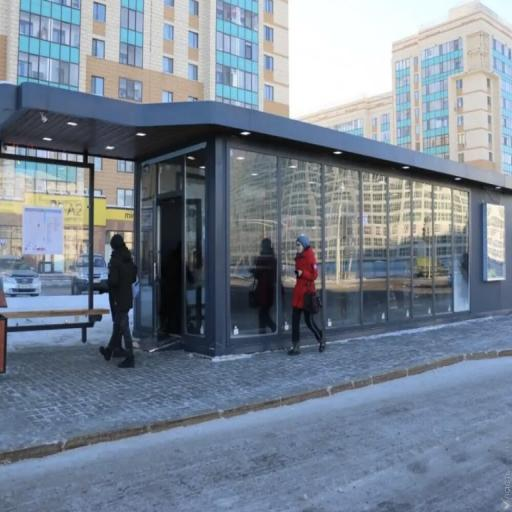book: (2, 74, 511, 380)
construction_fence: (0, 350, 511, 464)
elevator: (230, 149, 468, 335), (0, 148, 107, 306), (230, 149, 282, 336), (280, 158, 323, 331), (325, 166, 360, 327), (185, 150, 206, 335), (362, 173, 387, 323), (389, 178, 411, 321), (139, 164, 157, 330), (413, 182, 433, 317), (433, 186, 452, 314), (451, 190, 469, 311)
